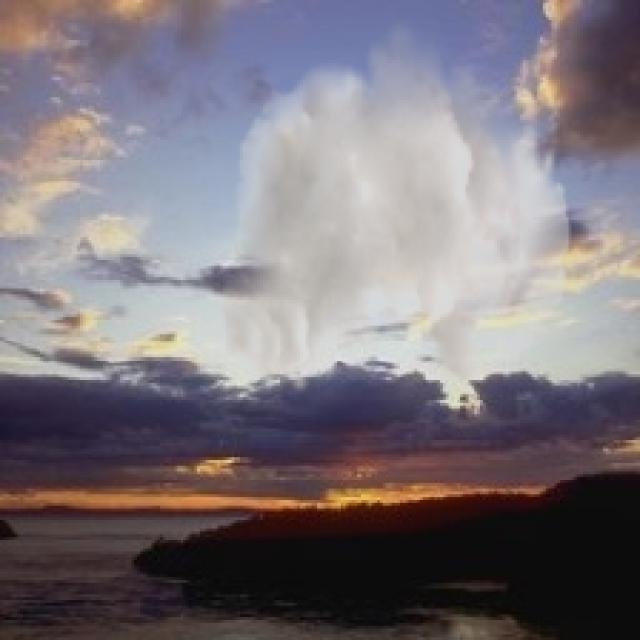smoke: (220, 14, 571, 394)
